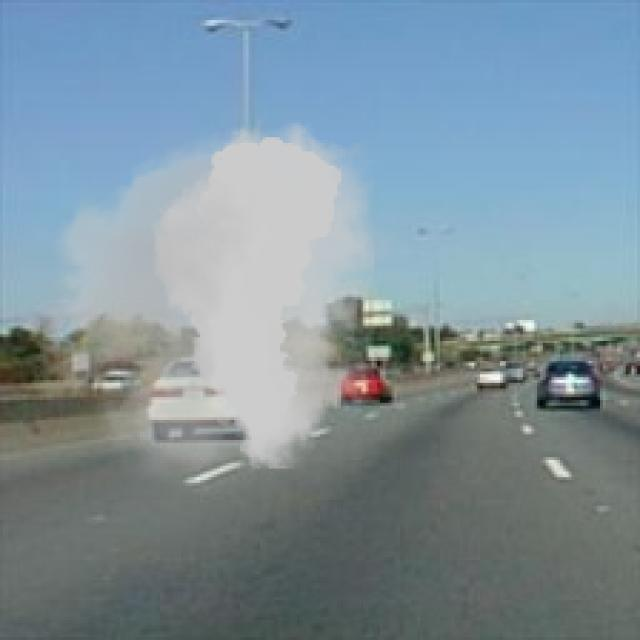smoke: (14, 112, 406, 494)
